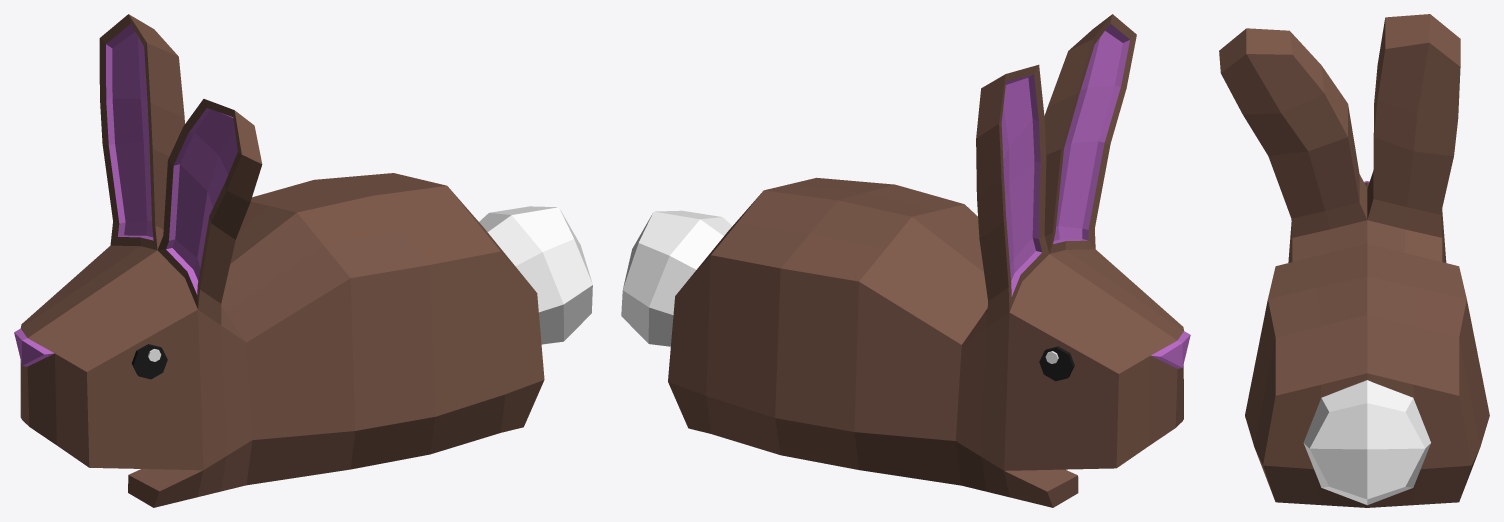
Rendered from animals-rabbit-161.glb.
3 views of the same model, side by side, from view 1: azimuth 30°, elevation 25°; view 2: azimuth 150°, elevation 25°; view 3: azimuth 270°, elevation 25° (orthographic). The views are drawn at different scales.
Visible parts, largest first — view 1: Cube.025; view 2: Cube.025; view 3: Cube.025.
Boxes of the visible parts, x1,y1,x2,y2 form: Cube.025: [14, 14, 592, 507]; Cube.025: [621, 14, 1190, 507]; Cube.025: [1219, 14, 1489, 507].
Bounding box in the file's own units: 268 × 192 × 130.
